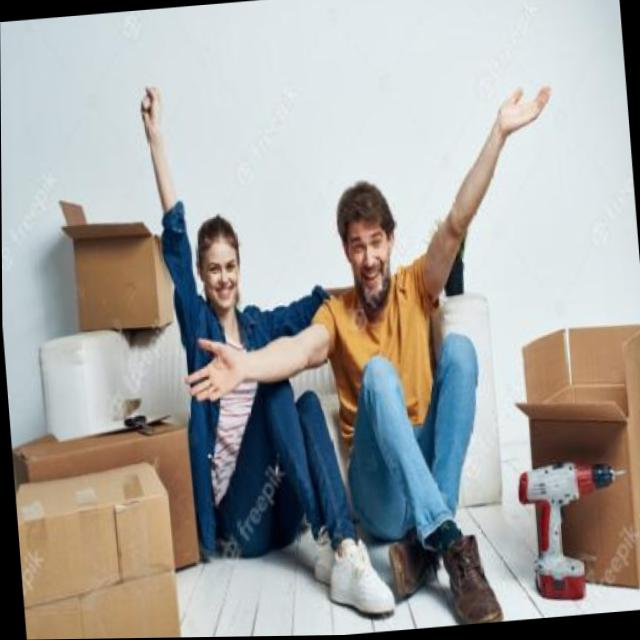box: (10, 411, 224, 601), (508, 312, 640, 620), (12, 450, 194, 640), (51, 184, 188, 340)
